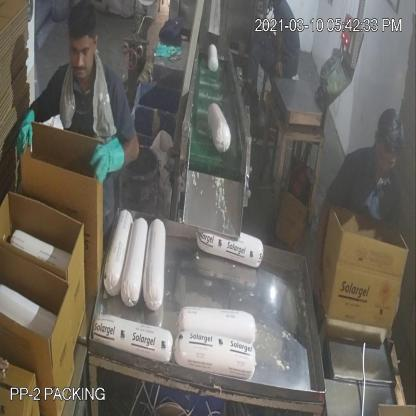glove: (86, 130, 137, 205), (15, 101, 44, 165)
no_glove: (312, 187, 338, 309)
